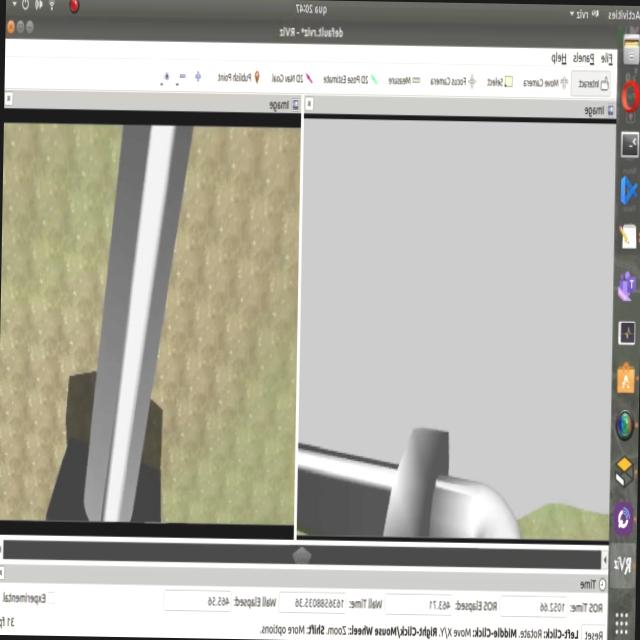gas: (82, 127, 189, 514), (296, 444, 523, 539)
